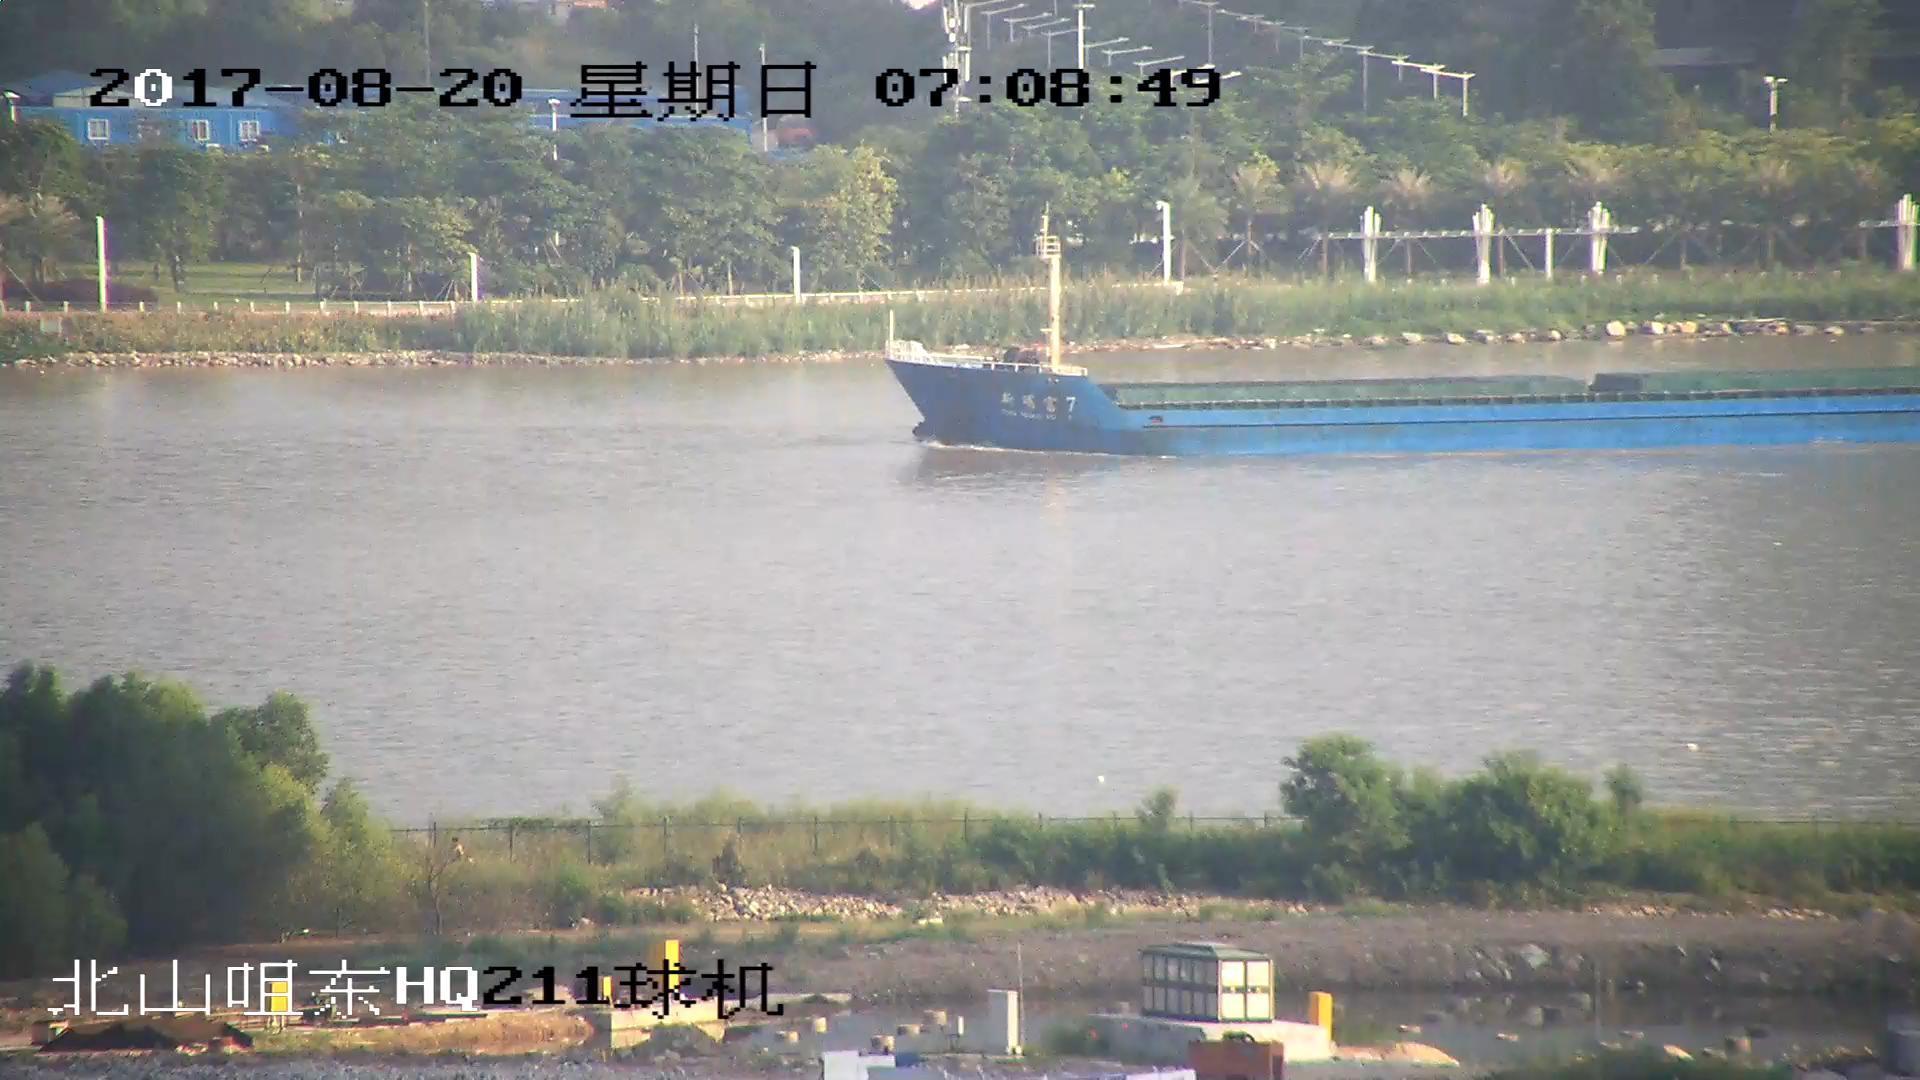Ship: (882, 233, 1920, 464)
